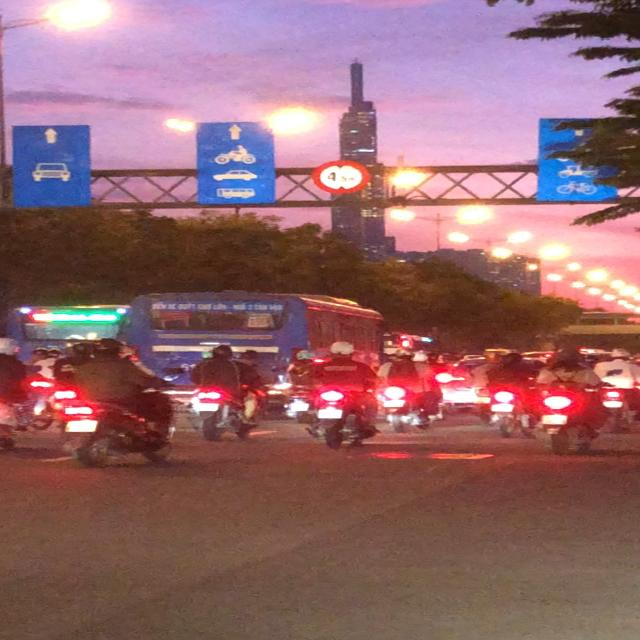Bien bao han che chieu cao: (311, 158, 369, 198)
